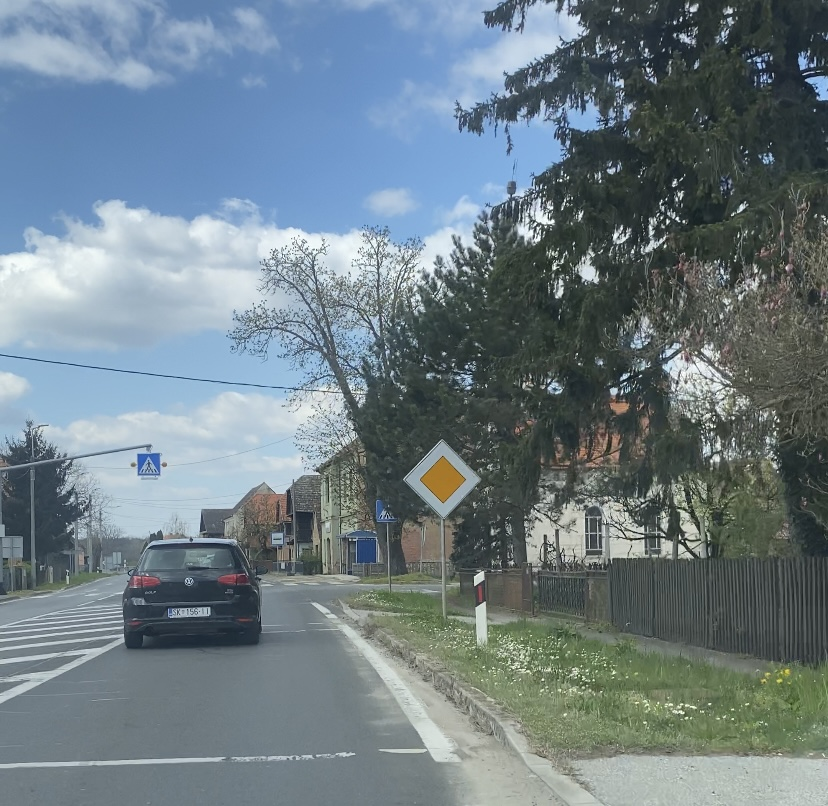Cesta s prednošću prolaska: (402, 438, 481, 520)
Pješački prijelaz: (137, 453, 160, 475)
